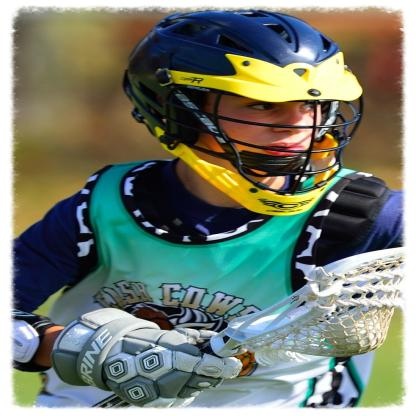Helmet: (121, 9, 367, 206)
